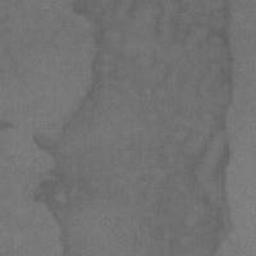Water spot: (31, 0, 236, 256), (0, 119, 15, 132)
